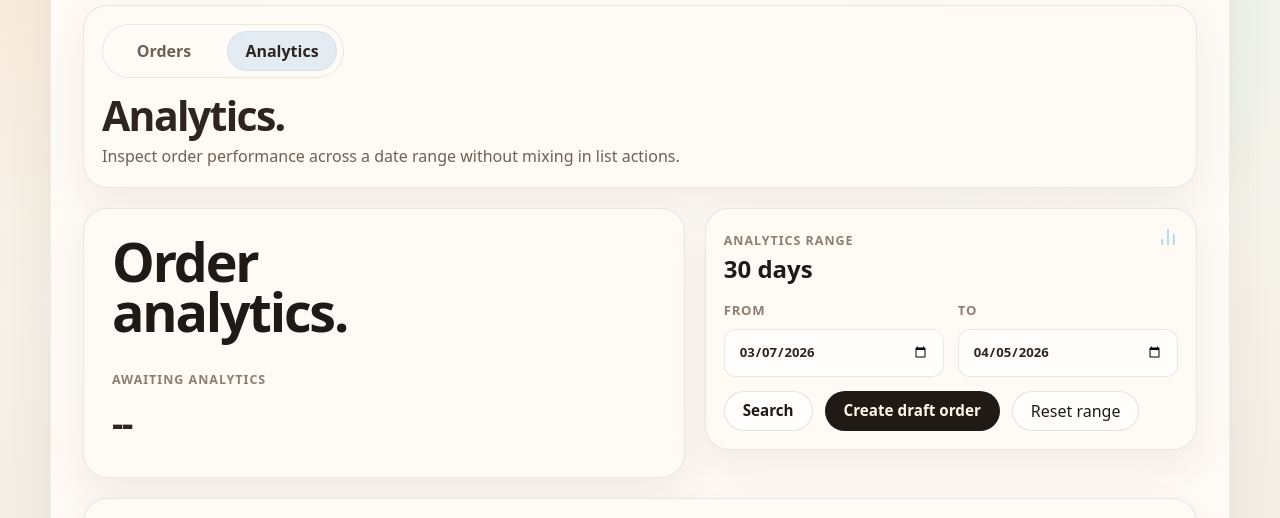
Orders analytics page › renders buyer-specific charts without the seller status donut
Click the button "Search".
click(768, 411)  # box [724,391,813,431]
(page scrolled)
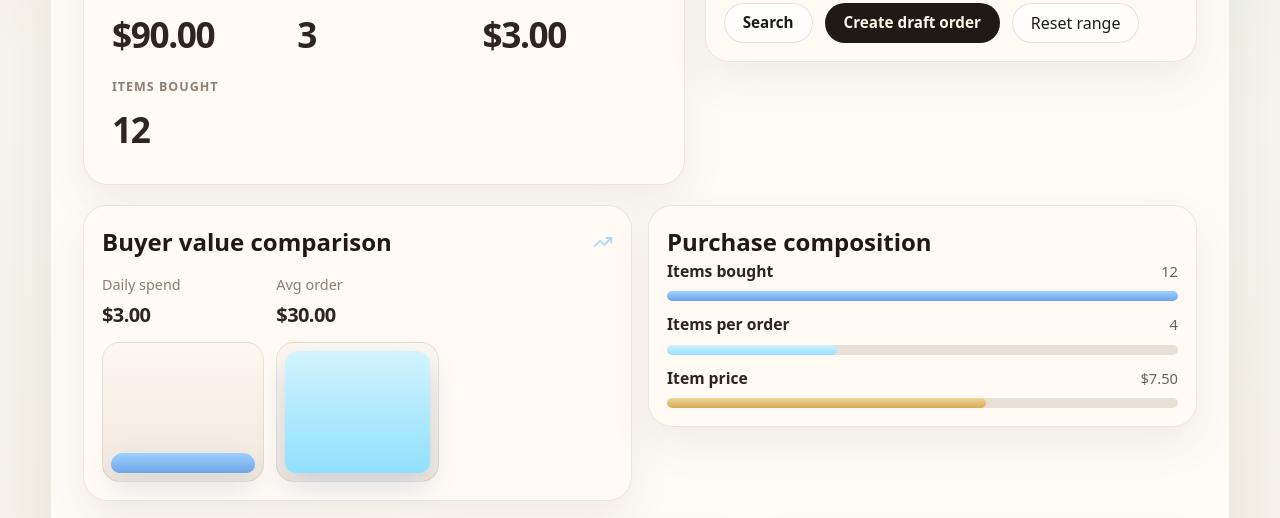
Result: the heading "Buyer value comparison" is shown at [102,224,392,260]
Result: the heading "Purchase composition" is shown at [667,224,932,260]
